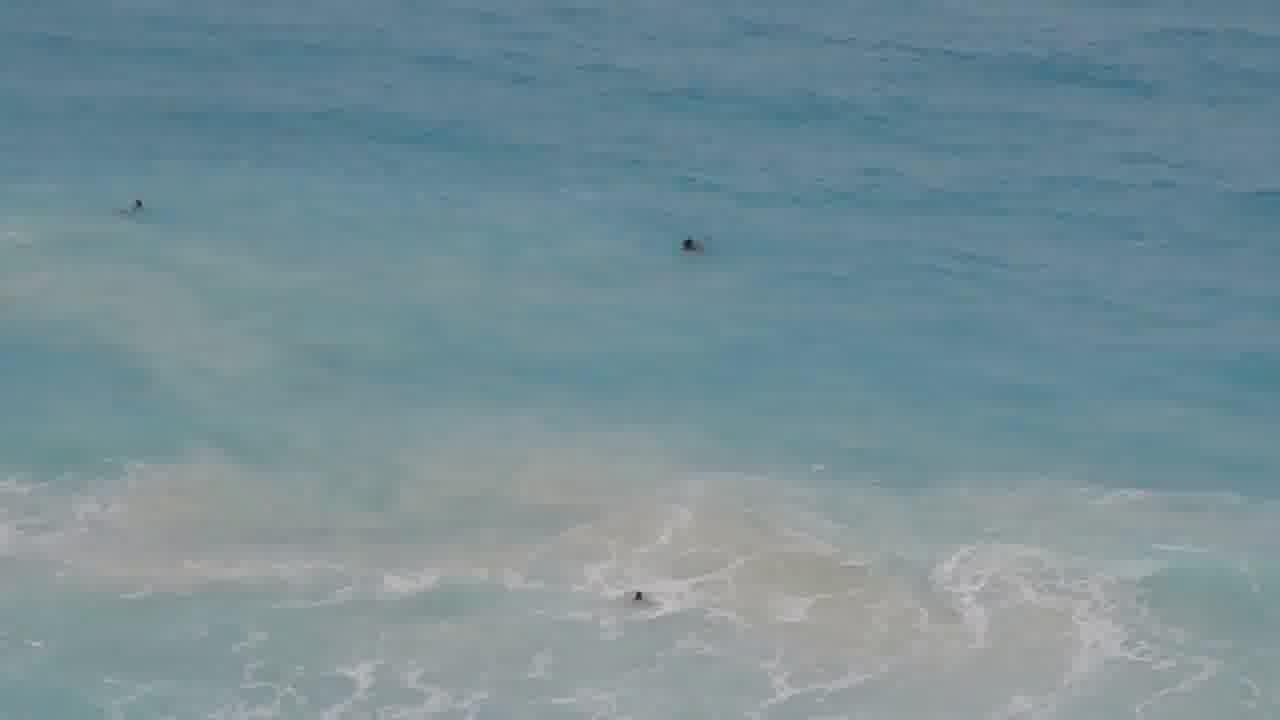human: (670, 226, 718, 261), (121, 188, 157, 219), (620, 583, 659, 604)
